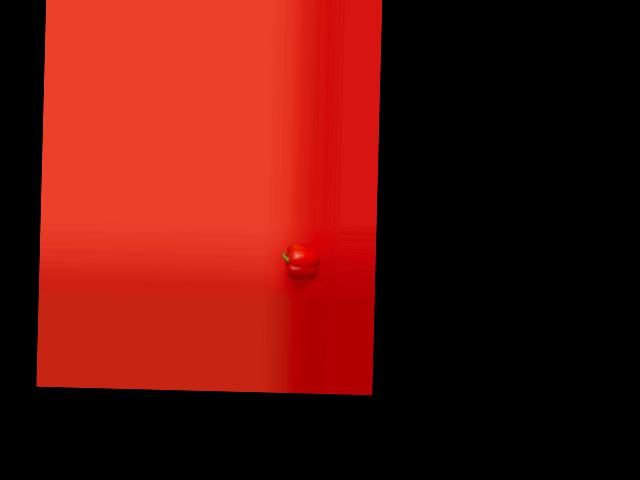bell_pepper: (280, 244, 322, 281)
